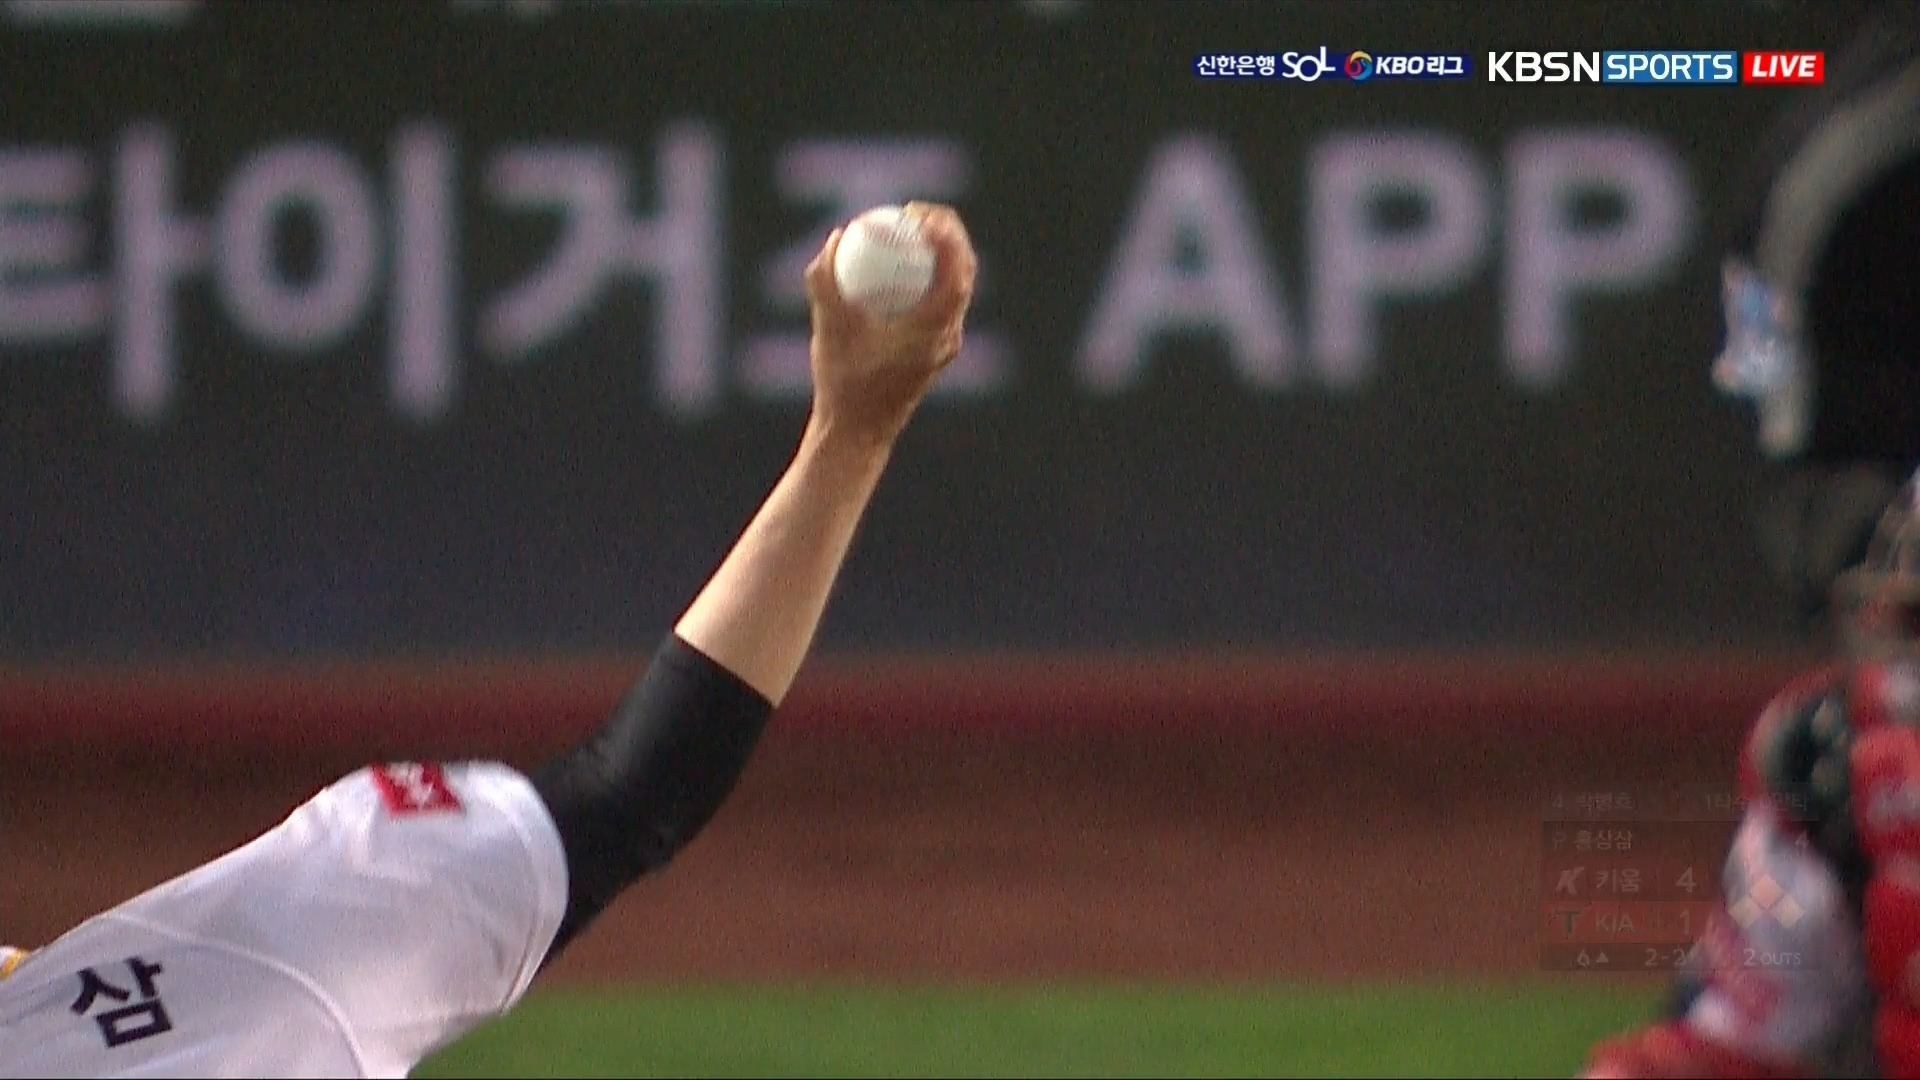zoomin_hand: (603, 194, 986, 815)
